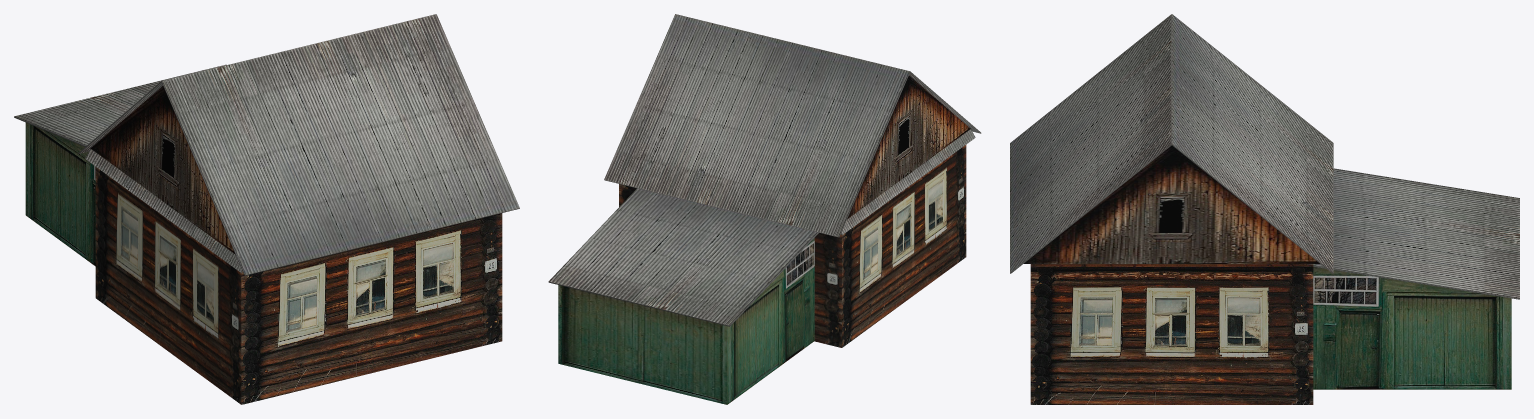
The model's file is d_dom_1et_38.FBX.
The picture shows the model from 3 angles, left to right: view 1: azimuth 30°, elevation 25°; view 2: azimuth 150°, elevation 25°; view 3: azimuth 270°, elevation 25°; orthographic projection. The views are drawn at different scales.
Parts seen in each view (by area): view 1: d_dom_1et_38; view 2: d_dom_1et_38; view 3: d_dom_1et_38.
Boxes of the visible parts, box(x1,y1,x2,y2) form: d_dom_1et_38: box(14, 14, 519, 404); d_dom_1et_38: box(548, 14, 981, 404); d_dom_1et_38: box(1010, 14, 1519, 404).
Size of the model in its own units: 6.79 by 11.23 by 6.42.
